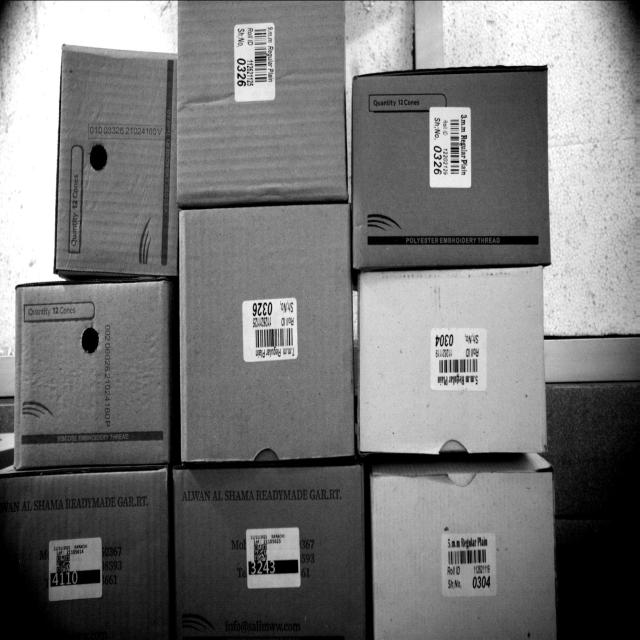cardboxes: (182, 207, 350, 461), (355, 69, 551, 269), (178, 0, 348, 204), (363, 270, 546, 450), (173, 469, 363, 639), (373, 480, 555, 639), (17, 282, 174, 466), (0, 472, 168, 639), (55, 44, 177, 272)
